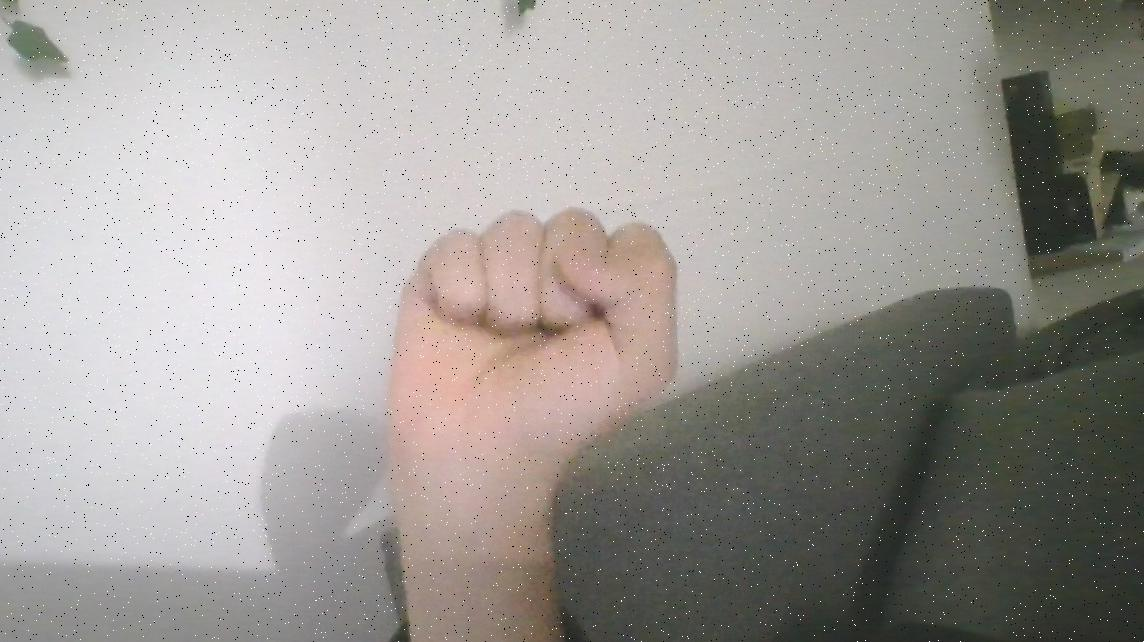stop: (367, 144, 696, 492)
